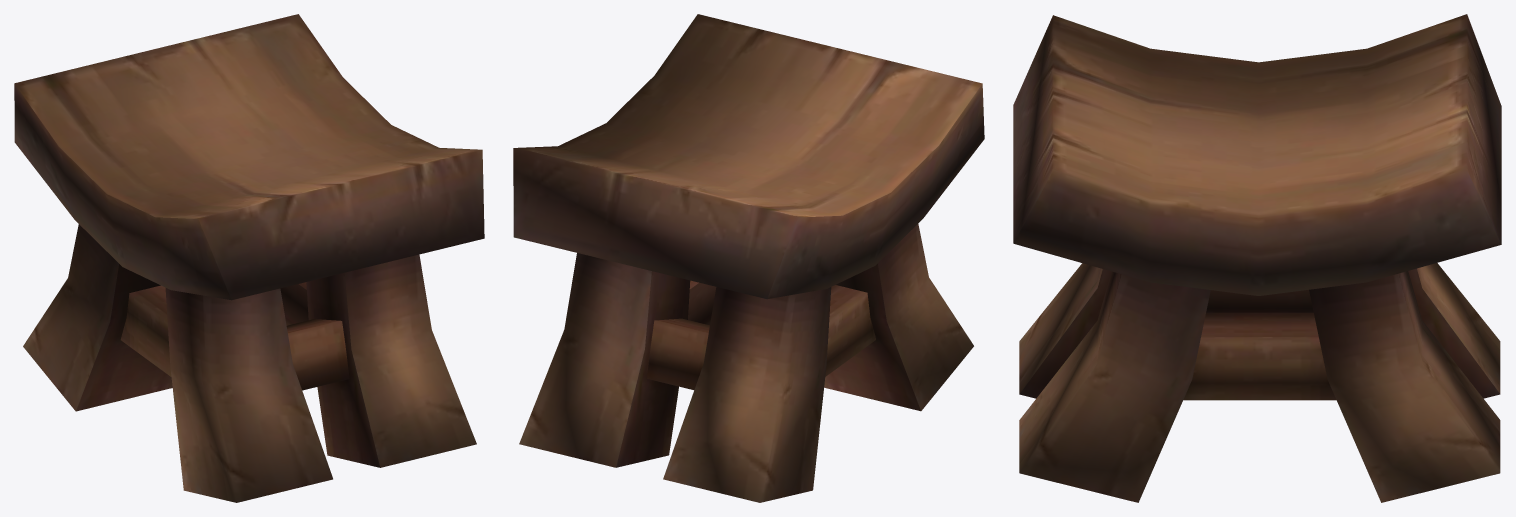
3 views of the same model, side by side, from view 1: azimuth 30°, elevation 25°; view 2: azimuth 150°, elevation 25°; view 3: azimuth 270°, elevation 25° (orthographic). The views are drawn at different scales.
Size of the model in its own units: 0.6676 by 0.6869 by 0.8828.
1 material, 1 textured.
